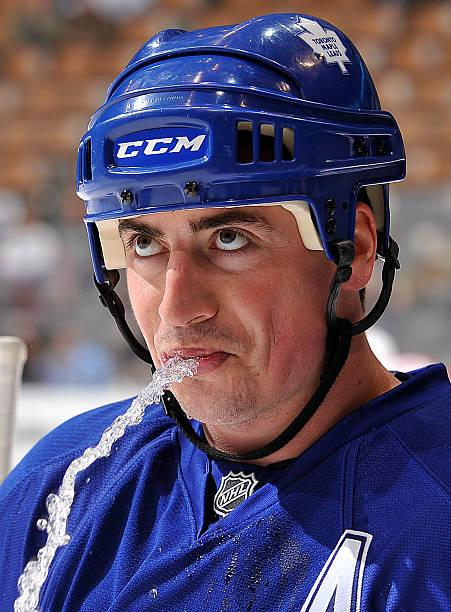Spitting: (53, 5, 416, 464)
